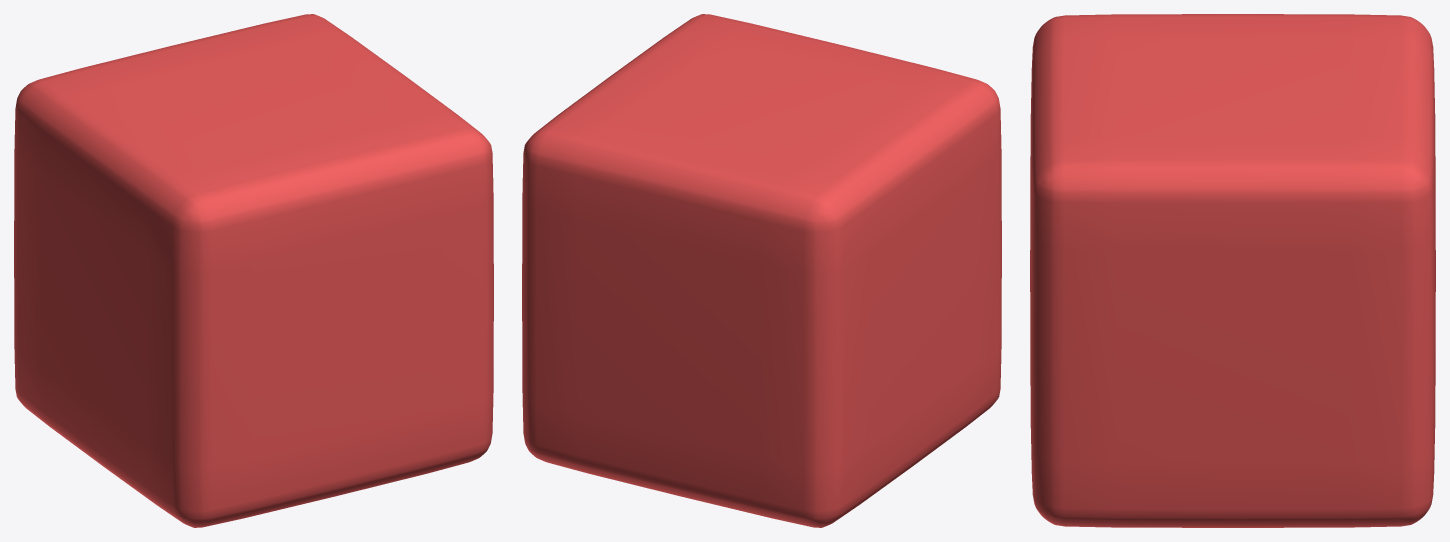
File: block_red.glb
3 renders of one model, left to right at view 1: azimuth 30°, elevation 25°; view 2: azimuth 150°, elevation 25°; view 3: azimuth 270°, elevation 25°, orthographic. The views are drawn at different scales.
Parts seen in each view (by area): view 1: block_red; view 2: block_red; view 3: block_red.
Boxes of the visible parts, <box> form: block_red: <box>14,14,493,527</box>; block_red: <box>522,14,1001,527</box>; block_red: <box>1030,14,1435,527</box>.
Bounding box in the file's own units: 0.3996 × 0.3996 × 0.3996.
